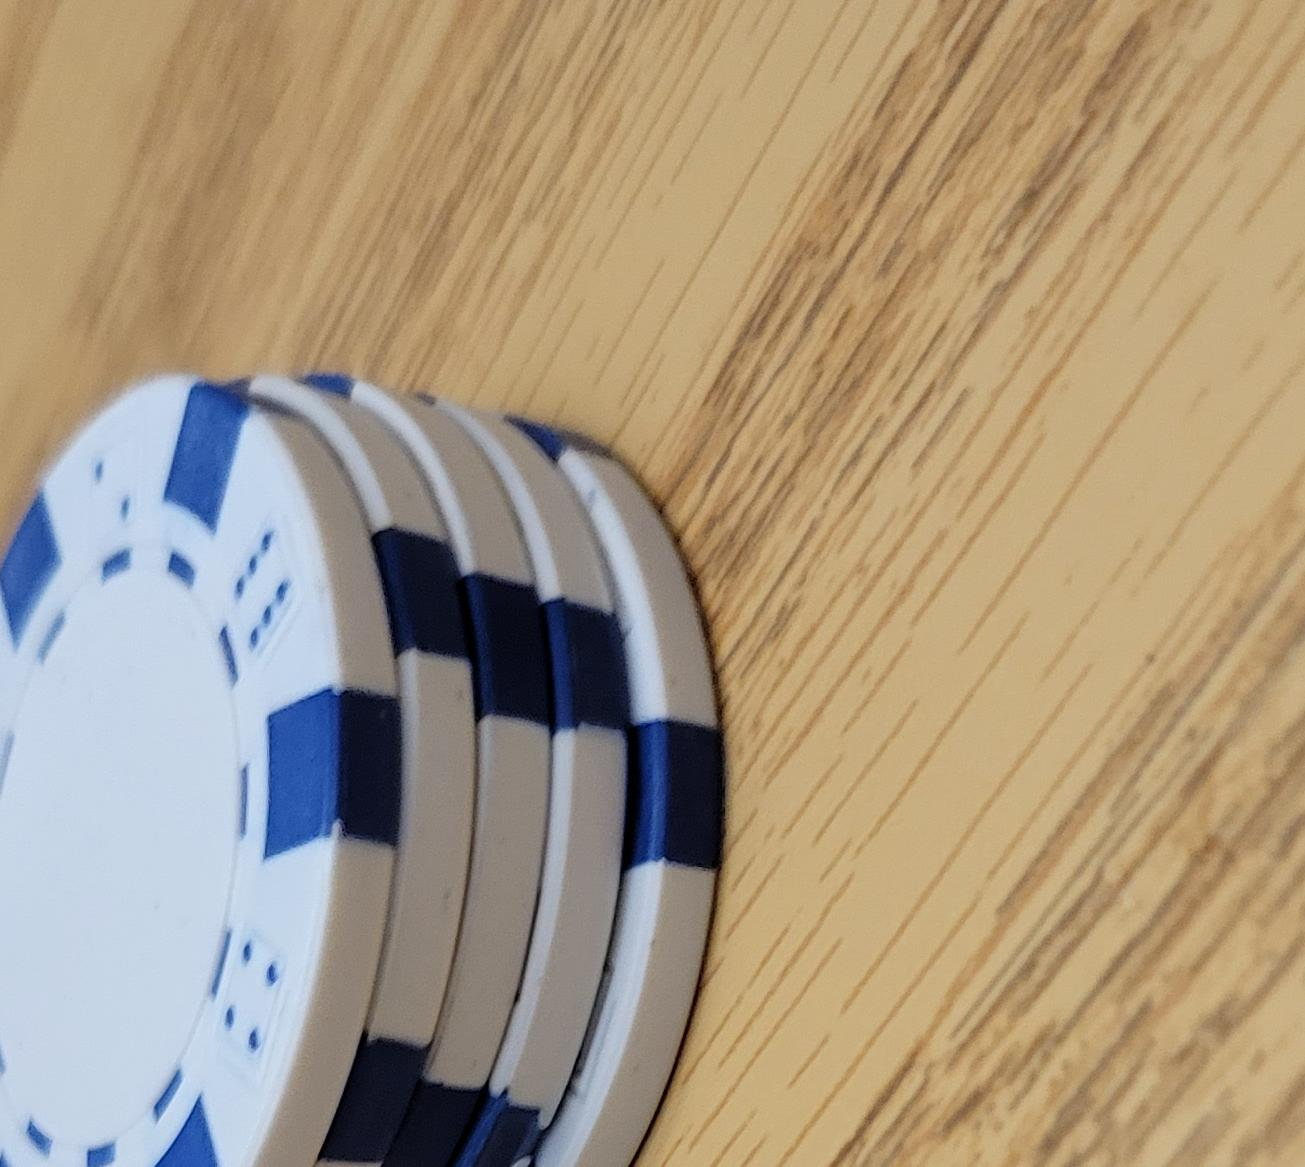Chip: (1, 24, 664, 1167)
